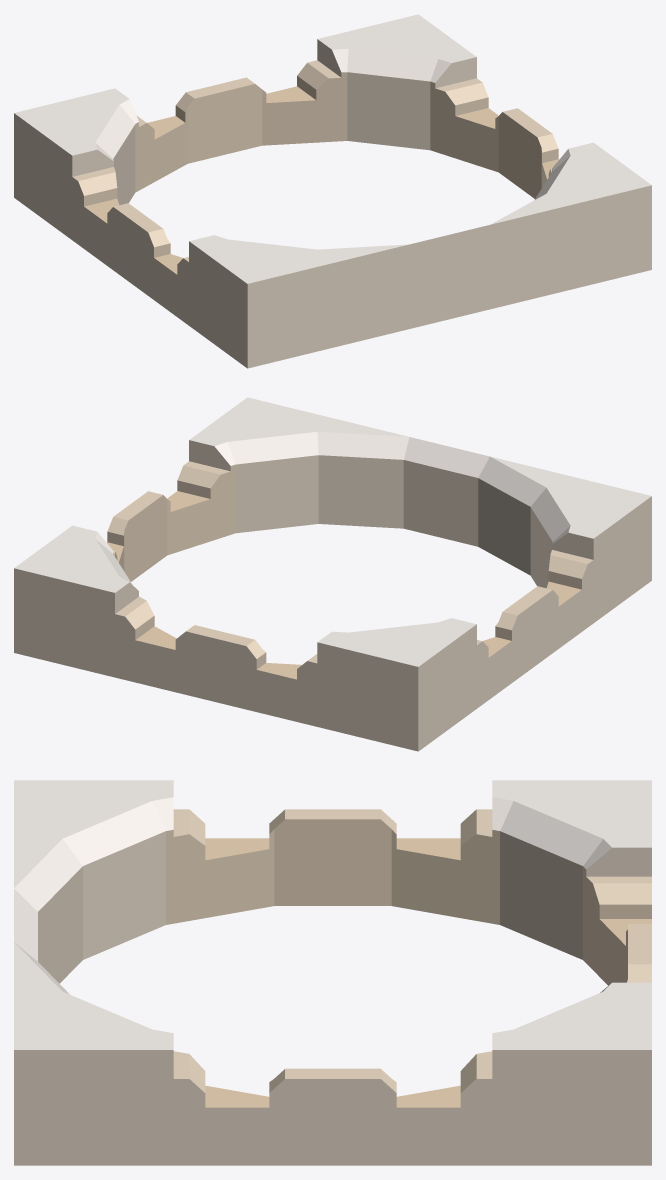
The model's file is Puzzle_Track_Rotating_Housing_TJoint.glb.
3 views of the same model, one above another, from view 1: azimuth 30°, elevation 25°; view 2: azimuth 150°, elevation 25°; view 3: azimuth 270°, elevation 25° (orthographic). The views are drawn at different scales.
Parts seen in each view (by area): view 1: Puzzle_Track_Rotating_Housing_TJoint; view 2: Puzzle_Track_Rotating_Housing_TJoint; view 3: Puzzle_Track_Rotating_Housing_TJoint.
Boxes of the visible parts, left/top/right/bottom form: Puzzle_Track_Rotating_Housing_TJoint: left=14, top=14, right=651, bottom=368; Puzzle_Track_Rotating_Housing_TJoint: left=14, top=397, right=651, bottom=751; Puzzle_Track_Rotating_Housing_TJoint: left=14, top=780, right=651, bottom=1165.
Size of the model in its own units: 1 by 0.2 by 1.
